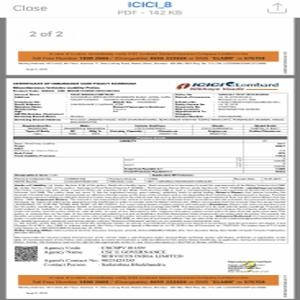image: (174, 80, 284, 93)
table: (15, 135, 288, 184), (13, 120, 289, 137)
text: (15, 183, 286, 233), (12, 94, 286, 121), (99, 243, 184, 268), (9, 78, 138, 93), (43, 245, 102, 268)
